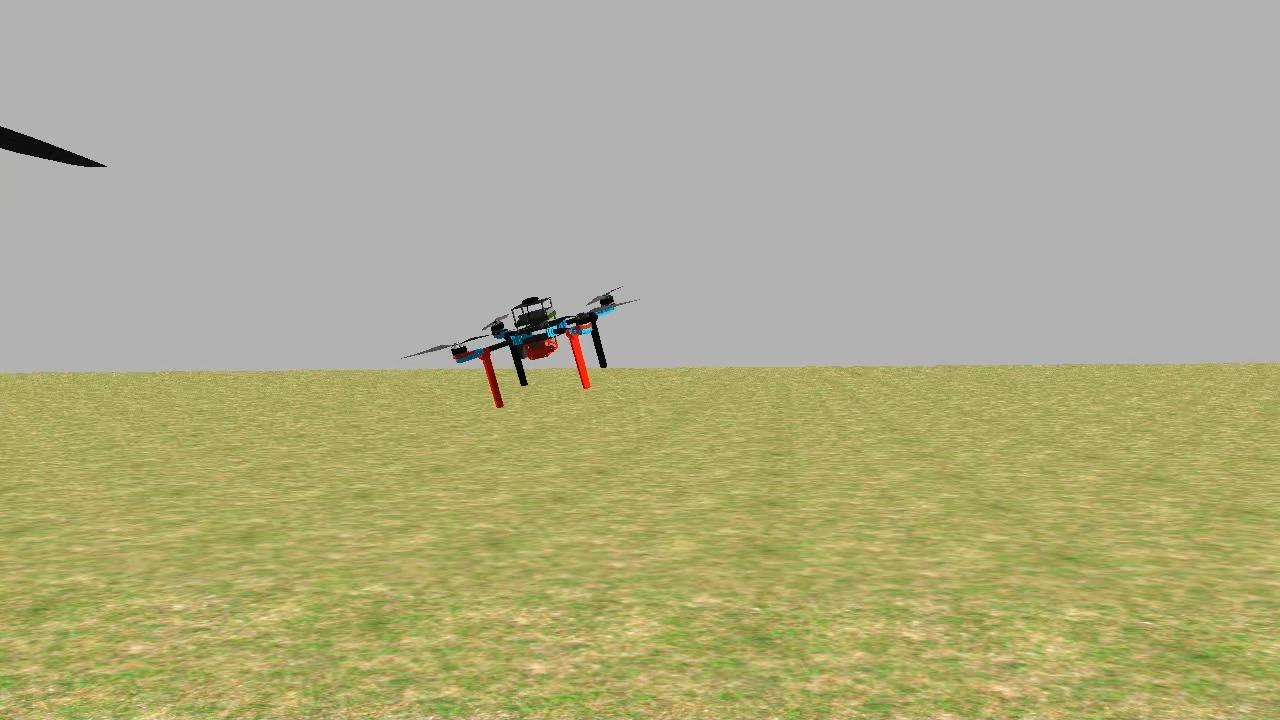UAV: (441, 273, 630, 415)
